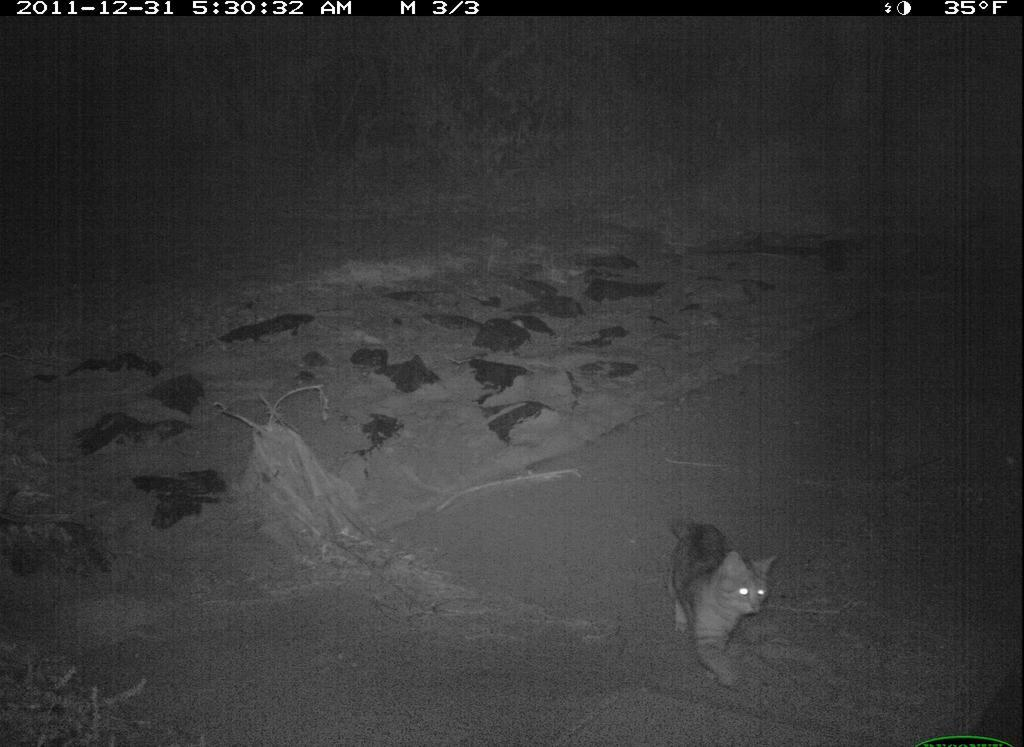cat: (658, 506, 789, 698)
